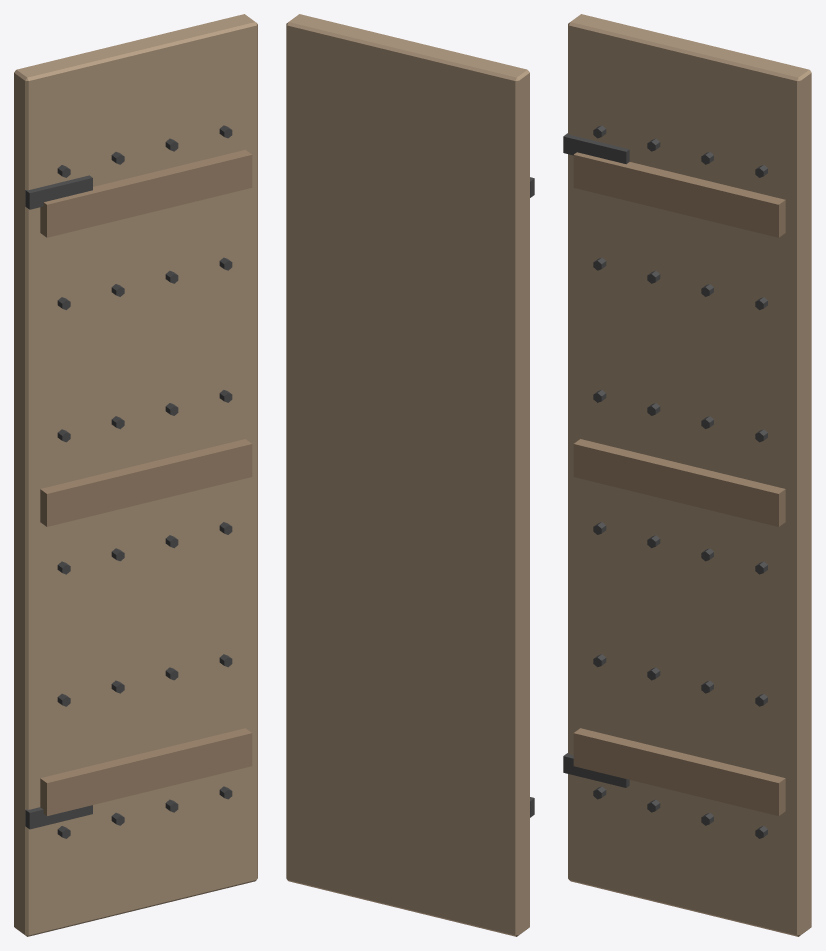
The model's file is kapi_kanat_sol.glb.
The picture shows the model from 3 angles, left to right: view 1: azimuth 30°, elevation 25°; view 2: azimuth 150°, elevation 25°; view 3: azimuth 330°, elevation 25°; orthographic projection.
Parts seen in each view (by area): view 1: kapi_kanat_sol; view 2: kapi_kanat_sol; view 3: kapi_kanat_sol.
Boxes of the visible parts, <box> form: kapi_kanat_sol: <box>14,14,257,936</box>; kapi_kanat_sol: <box>286,14,534,936</box>; kapi_kanat_sol: <box>563,14,811,936</box>.
Size of the model in its own units: 0.59 by 2.08 by 0.09.
